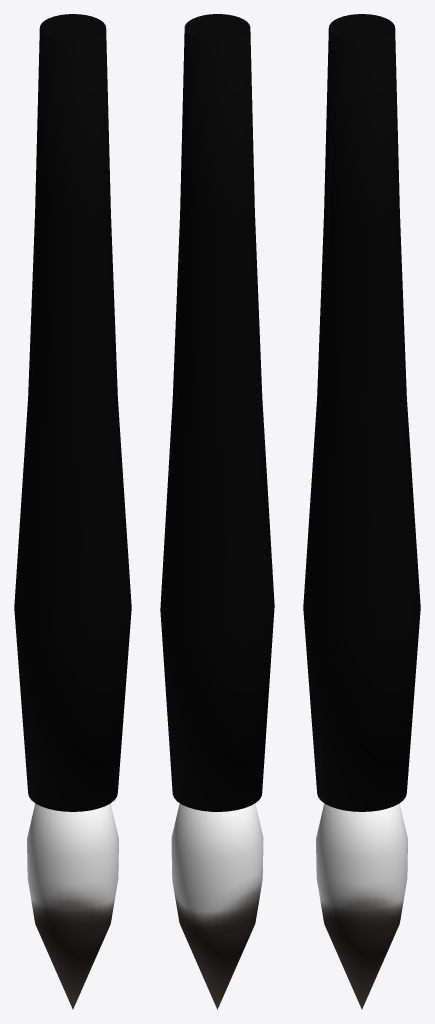
The model's file is Hude.obj.
3 views of the same model, side by side, from view 1: azimuth 90°, elevation 25°; view 2: azimuth 150°, elevation 25°; view 3: azimuth 270°, elevation 25° (orthographic).
Parts seen in each view (by area): view 1: 円柱, 円錐; view 2: 円柱, 円錐; view 3: 円柱, 円錐.
Part boxes in pixels (left/top/right/bottom): 円柱: left=14, top=14, right=131, bottom=811; 円錐: left=27, top=803, right=118, bottom=1009; 円柱: left=160, top=14, right=274, bottom=811; 円錐: left=171, top=803, right=263, bottom=1009; 円柱: left=303, top=14, right=420, bottom=811; 円錐: left=316, top=803, right=407, bottom=1009.
Bounding box in the file's own units: 0.1343 × 1.28 × 0.1392.
Materials: 2 (2 with a texture image).
